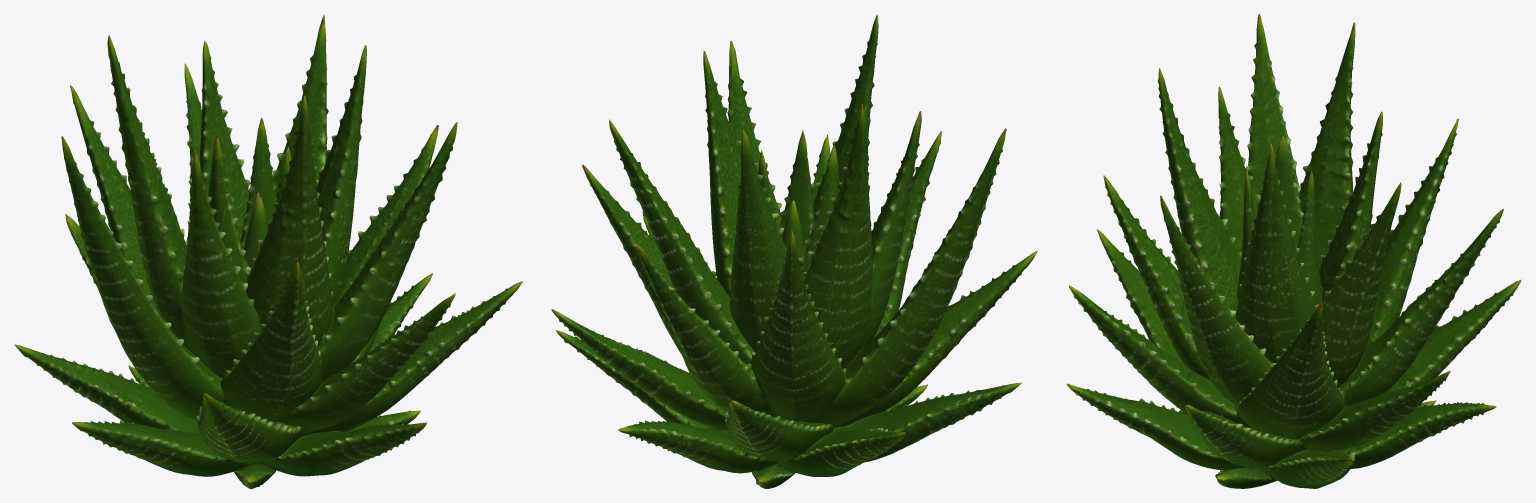
Rendered from succulent_01.glb.
3 views of the same model, side by side, from view 1: azimuth 30°, elevation 25°; view 2: azimuth 150°, elevation 25°; view 3: azimuth 270°, elevation 25° (orthographic). The views are drawn at different scales.
Visible parts, largest first — view 1: tripo_node_8363530c-fdd8-4f5d-8a4a-ce13b3ac4d01; view 2: tripo_node_8363530c-fdd8-4f5d-8a4a-ce13b3ac4d01; view 3: tripo_node_8363530c-fdd8-4f5d-8a4a-ce13b3ac4d01.
Boxes of the visible parts, x1,y1,x2,y2 form: tripo_node_8363530c-fdd8-4f5d-8a4a-ce13b3ac4d01: (14,14,522,488); tripo_node_8363530c-fdd8-4f5d-8a4a-ce13b3ac4d01: (551,14,1037,488); tripo_node_8363530c-fdd8-4f5d-8a4a-ce13b3ac4d01: (1066,14,1521,488).
Bounding box in the file's own units: 0.9706 × 0.9362 × 0.9749.
1 material, 1 textured.
